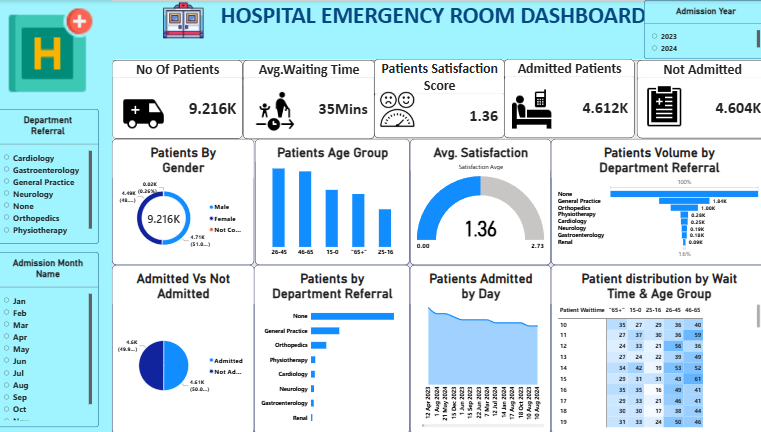

Layout of this report page (visuals, bound fields, positions):
{"tool":"powerbi","page":{"name":"Page 1","canvas":[1920,1080],"ordinal":0},"visuals":[{"type":"textbox","box":[255.4,0,1664.8,150.1],"z":0},{"type":"cardVisual","title":"No Of Patients","fields":{"Data":["CountNonNull(Hospital ER_Data.Patient Id)"]},"box":[289,150.1,325,196],"z":1000},{"type":"image","box":[289,228.5,156.2,100.8],"z":2000},{"type":"cardVisual","title":"Avg.Waiting Time","fields":{"Data":["Hospital ER_Data.Display Waiting Time"]},"box":[613.9,150.1,327.6,196.5],"z":3000},{"type":"cardVisual","title":"Patients Satisfaction Score","fields":{"Data":["Hospital ER_Data.Satisfaction Avge"]},"box":[941.1,147.9,325,196.5],"z":4000},{"type":"cardVisual","title":"Admitted Patients","fields":{"Data":["CountNonNull(Hospital ER_Data.Patient Admission Flag)"]},"box":[1266,147.9,325,196.5],"z":5000},{"type":"cardVisual","title":"Not Admitted ","fields":{"Data":["CountNonNull(Hospital ER_Data.Patient Admission Flag)"]},"box":[1595.4,150.1,325,194.9],"z":6000},{"type":"image","box":[941.1,224.1,115.9,93.2],"z":7000},{"type":"textbox","box":[0,0,289.8,1080.9],"z":8000},{"type":"image","box":[1286.1,203.9,98.3,133.5],"z":9000},{"type":"image","box":[1613.3,212.9,100.8,105.8],"z":10000},{"type":"image","box":[643.1,212.9,103.3,133.5],"z":11000},{"type":"image","box":[0,0,256.5,266.5],"z":12000},{"type":"image","box":[386,0,161.3,100.8],"z":13000},{"type":"listSlicer","fields":{"Values":["Hospital ER_Data.Admission Year"]},"box":[1613.7,0,306.3,146.9],"z":14000},{"type":"listSlicer","fields":{"Values":["Hospital ER_Data.Department Referral"]},"box":[0,271.4,256.5,336.2],"z":15000},{"type":"listSlicer","fields":{"Values":["Hospital ER_Data.Admission Month Name"]},"box":[0,627.5,256.5,435.8],"z":16000},{"type":"donutChart","title":"Patients By Gender","fields":{"Category":["Hospital ER_Data.Patient Gender"],"Y":["CountNonNull(Hospital ER_Data.Patient Id)"]},"box":[288.9,346.1,353.6,313.8],"z":17000},{"type":"pieChart","title":"Admitted Vs Not Admitted","fields":{"Category":["Hospital ER_Data.Admission Status"],"Y":["CountNonNull(Hospital ER_Data.Patient Id)"]},"box":[288.9,659.9,353.6,420.9],"z":18000},{"type":"clusteredColumnChart","title":" Patients Age Group","fields":{"Y":["CountNonNull(Hospital ER_Data.Patient Id)"],"Category":["Hospital ER_Data.Patients Age Group"]},"box":[645,346.1,385,313.8],"z":19000},{"type":"areaChart","title":"Patients Admitted by Day","fields":{"Category":["Hospital ER_Data.Admission Date"],"Y":["CountNonNull(Hospital ER_Data.Patient Id)"]},"box":[1031,659.9,351.1,420.9],"z":20000},{"type":"funnel","title":"Patients Volume by Department Referral","fields":{"Category":["Hospital ER_Data.Department Referral","Hospital ER_Data.Patients Age Group"],"Y":["CountNonNull(Hospital ER_Data.Patient Age)"]},"box":[1382.1,346.1,537.9,313.8],"z":21000},{"type":"clusteredBarChart","title":"Patients by Department Referral","fields":{"Category":["Hospital ER_Data.Department Referral"],"Y":["CountNonNull(Hospital ER_Data.Patient Id)"]},"box":[642.5,659.9,388.5,420.9],"z":22000},{"type":"gauge","title":"Avg. Satisfaction","fields":{"Y":["Hospital ER_Data.Satisfaction Avge"]},"box":[1031,346.1,351.1,313.8],"z":23000},{"type":"pivotTable","title":"Patient distribution by Wait Time & Age Group","fields":{"Rows":["Hospital ER_Data.Patient Waittime"],"Columns":["Hospital ER_Data.Patients Age Group"],"Values":["CountNonNull(Hospital ER_Data.Patient Admission Flag)"]},"box":[1382.1,659.9,537.9,420.9],"z":24000}]}

Visuals, with their boxes in screenshot pixels (x1, y1, x2, y2), scaled from the page's 1920x1080 canvas onto the 761x432 screenshot:
textbox: 101,0,760,60
"No Of Patients" cardVisual: 115,60,243,138
image: 115,91,176,132
"Avg.Waiting Time" cardVisual: 243,60,373,139
"Patients Satisfaction Score" cardVisual: 373,59,502,138
"Admitted Patients" cardVisual: 502,59,631,138
"Not Admitted " cardVisual: 632,60,760,138
image: 373,90,419,127
textbox: 0,0,115,431
image: 510,82,549,135
image: 639,85,679,127
image: 255,85,296,139
image: 0,0,102,107
image: 153,0,217,40
listSlicer - Hospital ER_Data.Admission Year: 640,0,760,59
listSlicer - Hospital ER_Data.Department Referral: 0,109,102,243
listSlicer - Hospital ER_Data.Admission Month Name: 0,251,102,425
"Patients By Gender" donutChart: 115,138,255,264
"Admitted Vs Not Admitted" pieChart: 115,264,255,431
" Patients Age Group" clusteredColumnChart: 256,138,408,264
"Patients Admitted by Day" areaChart: 409,264,548,431
"Patients Volume by Department Referral" funnel: 548,138,760,264
"Patients by Department Referral" clusteredBarChart: 255,264,409,431
"Avg. Satisfaction" gauge: 409,138,548,264
"Patient distribution by Wait Time & Age Group" pivotTable: 548,264,760,431
